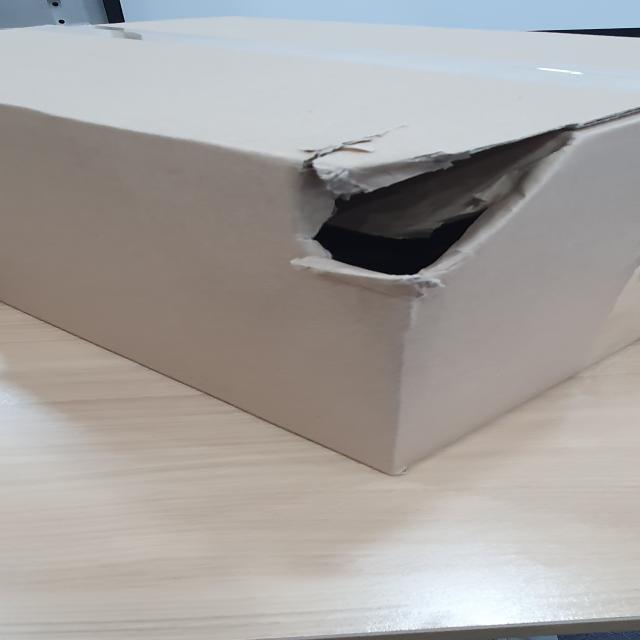hole: (300, 117, 576, 301)
